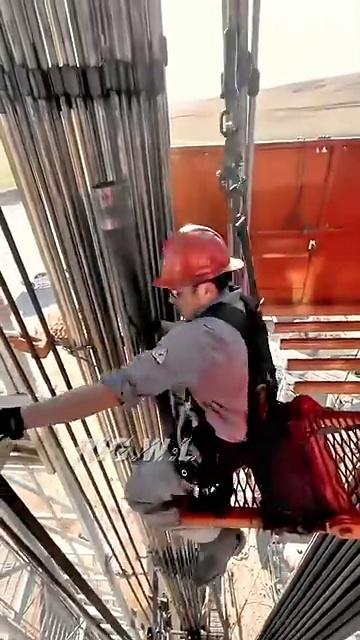gloves: (0, 370, 55, 458)
helmet: (145, 218, 245, 295)
shoes: (140, 530, 267, 597)
worker: (23, 222, 303, 635)
